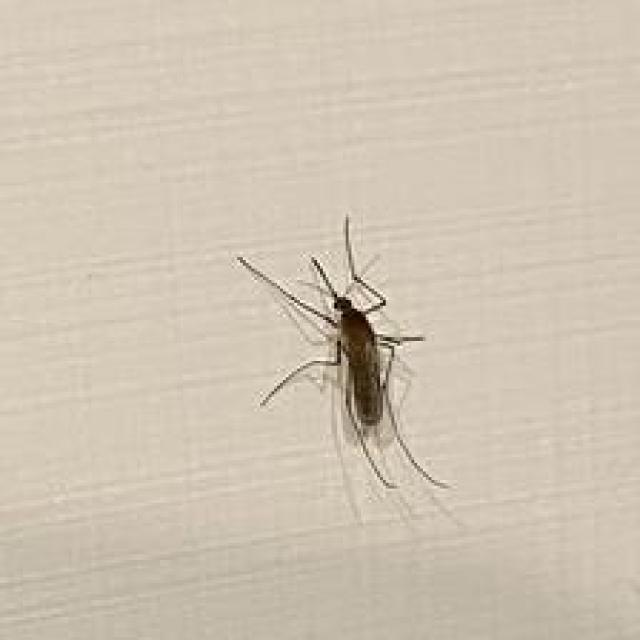Culex: (235, 213, 456, 521)
